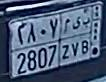0: (38, 27, 48, 70)
2: (15, 22, 27, 75)
7: (48, 17, 58, 68)
8: (27, 22, 37, 71)
B: (82, 17, 91, 56)
V: (71, 15, 81, 57)
Z: (61, 16, 70, 60)
